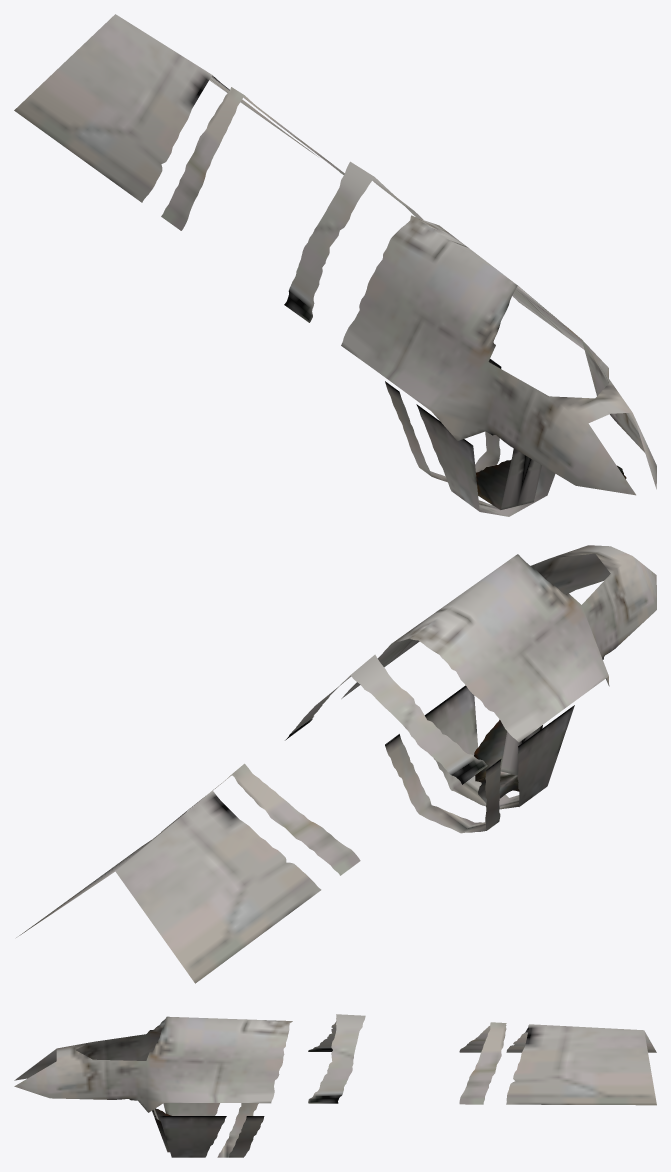
Rendered from hutt_fighter_medium_body_s02_l3.fbx.
3 views of the same model, one above another, from view 1: azimuth 30°, elevation 25°; view 2: azimuth 150°, elevation 25°; view 3: azimuth 270°, elevation 25° (orthographic). The views are drawn at different scales.
Parts seen in each view (by area): view 1: mesh_node; view 2: mesh_node; view 3: mesh_node.
Boxes of the visible parts, box(x1,y1,x2,y2) form: mesh_node: box(14, 14, 656, 516); mesh_node: box(16, 545, 656, 983); mesh_node: box(14, 1014, 656, 1157).
Bounding box in the file's own units: 5.07 × 6.54 × 26.25.
